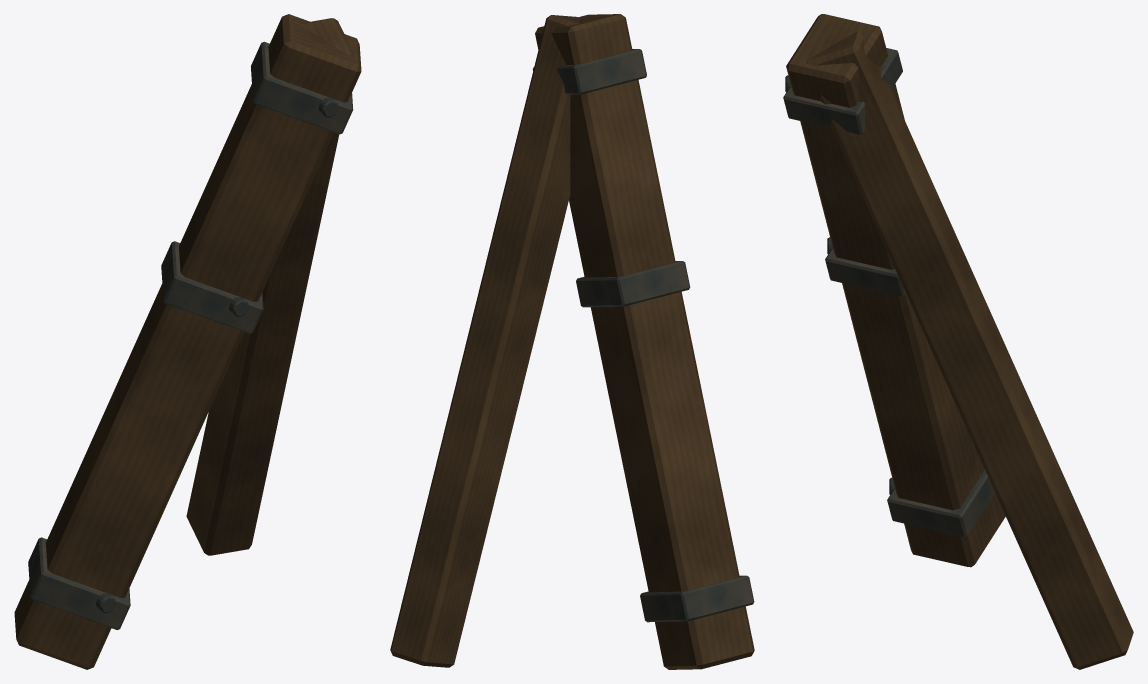
File: timber-brace-Dqi_MSS8.glb
3 views of the same model, side by side, from view 1: azimuth 30°, elevation 25°; view 2: azimuth 150°, elevation 25°; view 3: azimuth 270°, elevation 25° (orthographic). The views are drawn at different scales.
Parts seen in each view (by area): view 1: timber-brace__RV_wood, timber-brace__RV_iron; view 2: timber-brace__RV_wood, timber-brace__RV_iron; view 3: timber-brace__RV_wood, timber-brace__RV_iron.
Boxes of the visible parts, x1,y1,x2,y2 form: timber-brace__RV_wood: (14, 14, 361, 669); timber-brace__RV_iron: (28, 41, 353, 629); timber-brace__RV_wood: (390, 14, 754, 669); timber-brace__RV_iron: (532, 49, 754, 622); timber-brace__RV_wood: (786, 14, 1133, 669); timber-brace__RV_iron: (783, 48, 994, 537).
Size of the model in its own units: 1.1 by 2.14 by 1.11.
2 materials, 2 textured.
